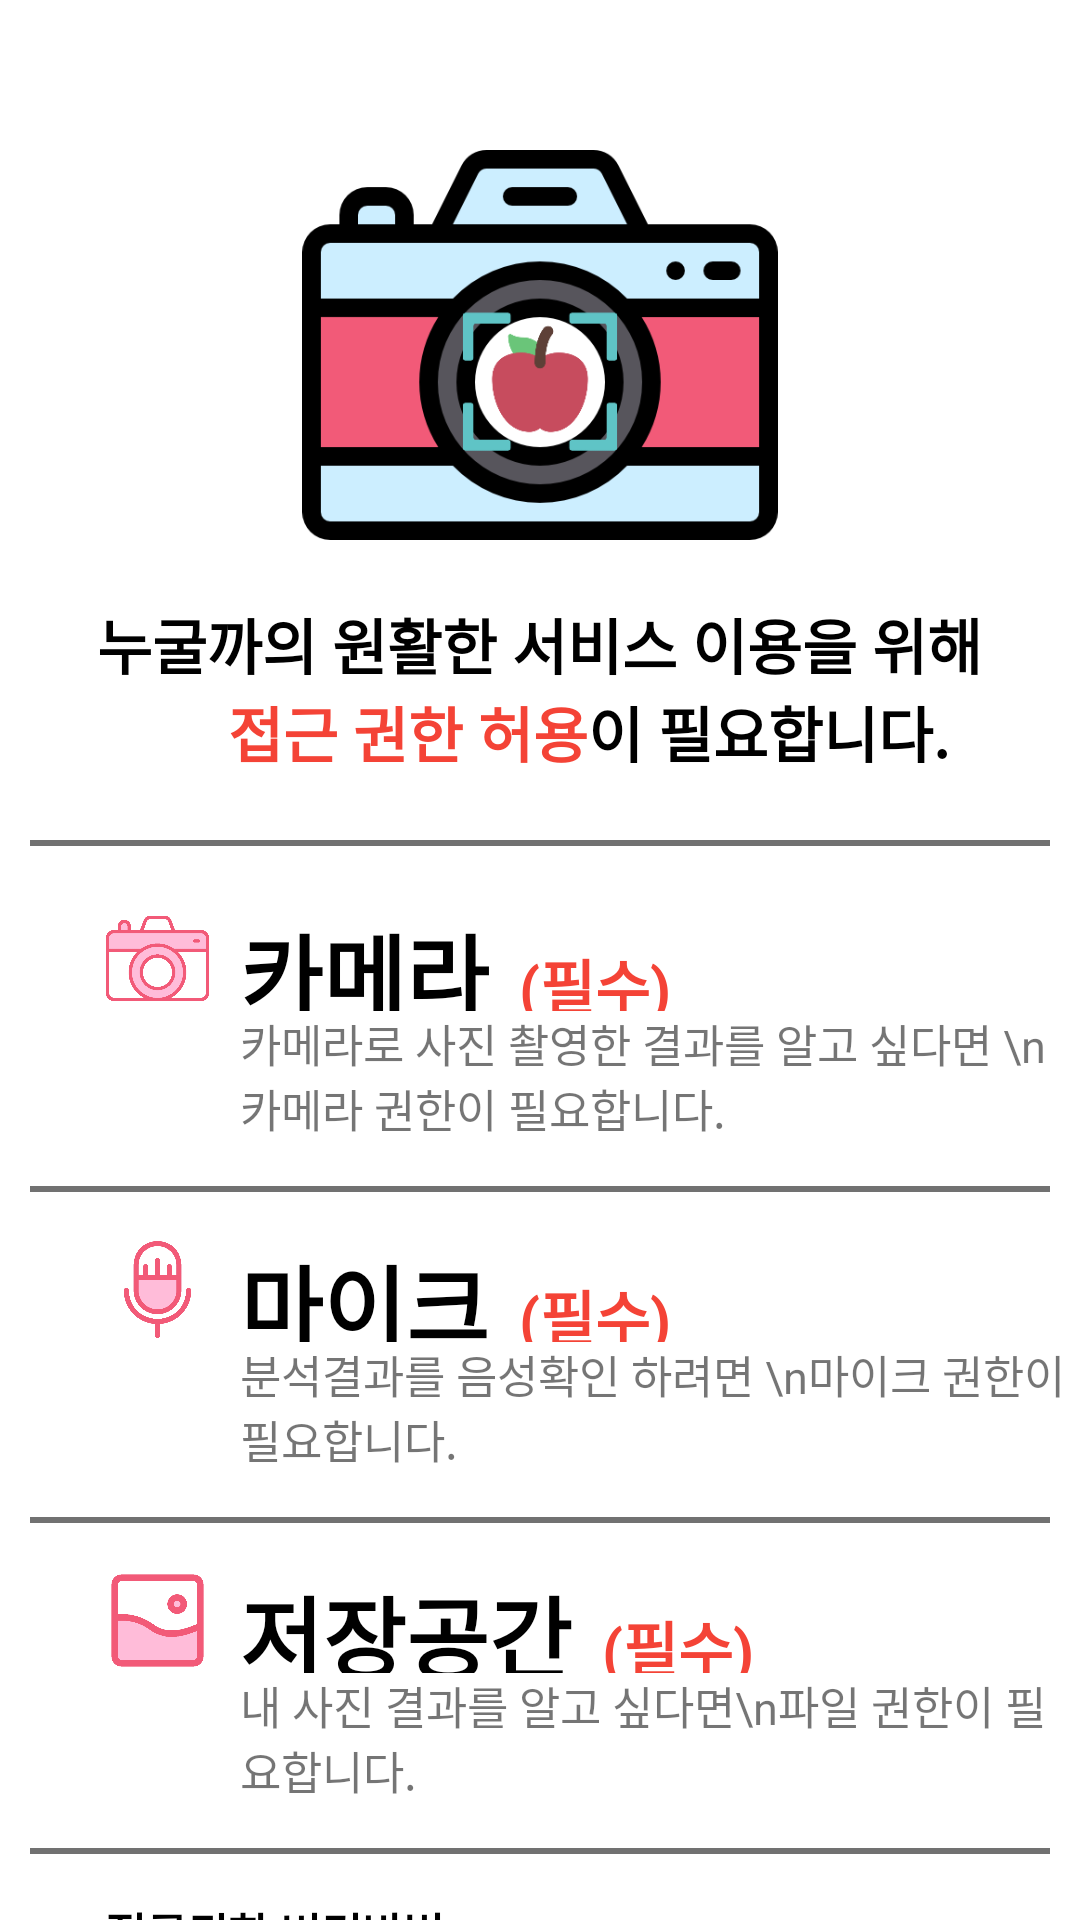

Named icons in this screenshot (1080 x 1920) and their bounding boxes, (x1=x1, y1=y1, x2=x2, y2=y2):
access camera: (x1=106, y1=916, x2=209, y2=1001)
access gallery: (x1=111, y1=1574, x2=204, y2=1667)
access mic: (x1=124, y1=1241, x2=191, y2=1338)
